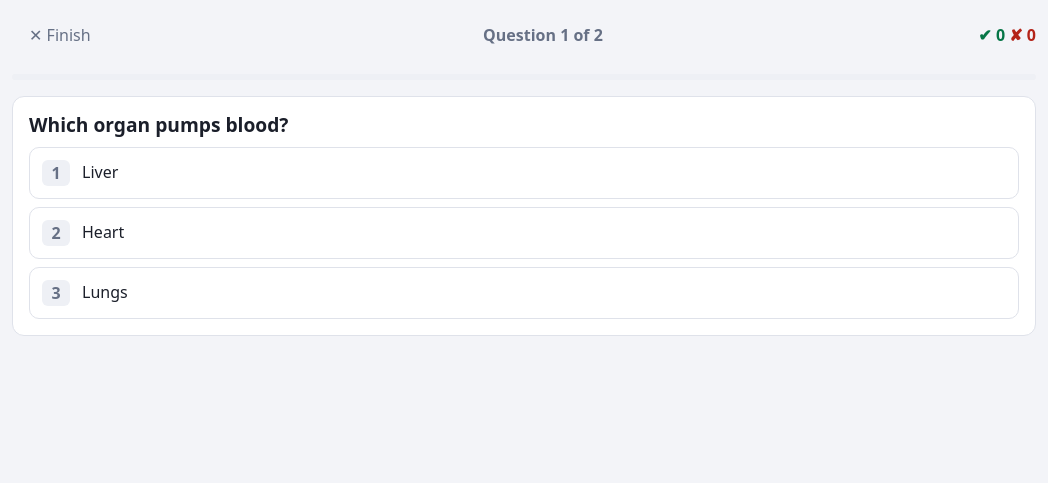
Quiz › shows an error and lets the user try again
This screenshot has width=1048, height=483.
Click the button "2 Heart" at (103, 232), box [29,207,1019,259]
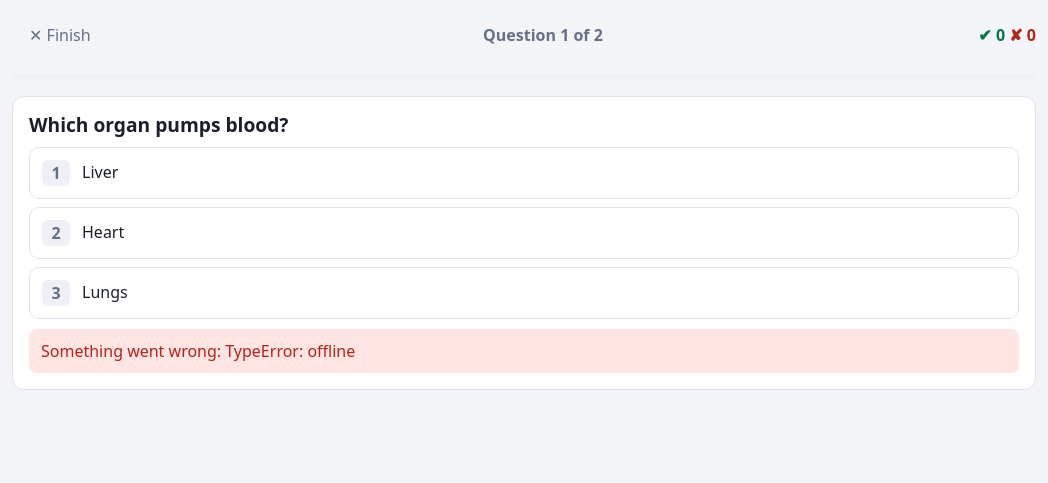
Expected: the message shows "Something went wrong", [41,340,355,362]
Click the button "2 Heart" at (103, 232), box [29,207,1019,259]
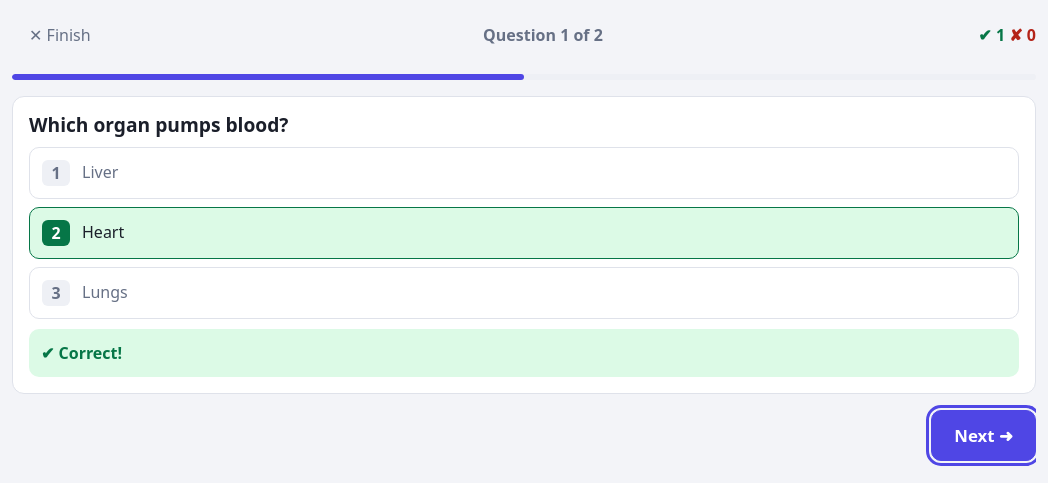
Expected: the message shows "Correct!", [41,342,122,364]
